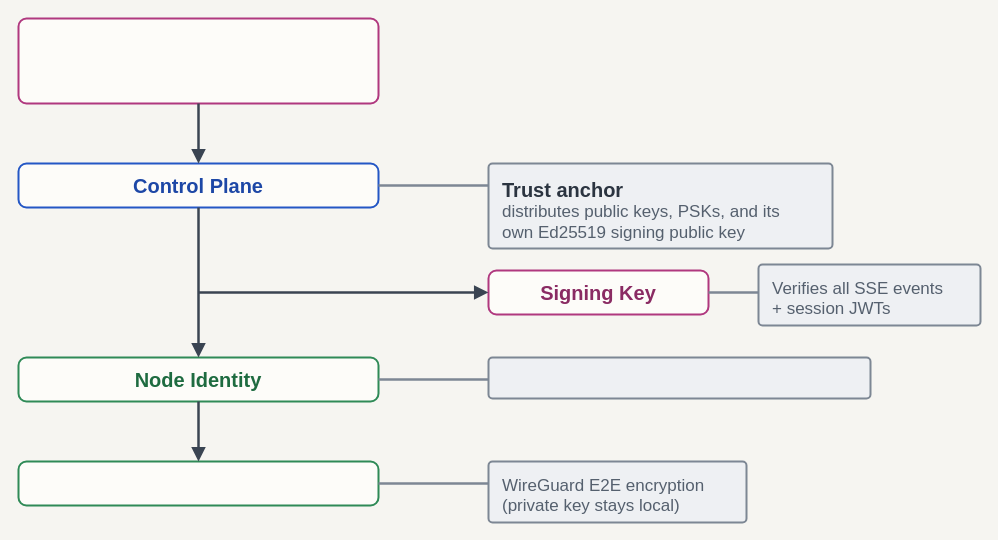
This 998x540 diagram has some shape labels left out. The centre of each missing label's shape, as x and y in pixels:
"Bootstrap Token BootstrapToken policy; single-use, short-lived by default" goes at pixel 198 60.
"Peer Tunnels" goes at pixel 198 483.
"Public key bound to node ID and mesh IP" goes at pixel 679 377.
